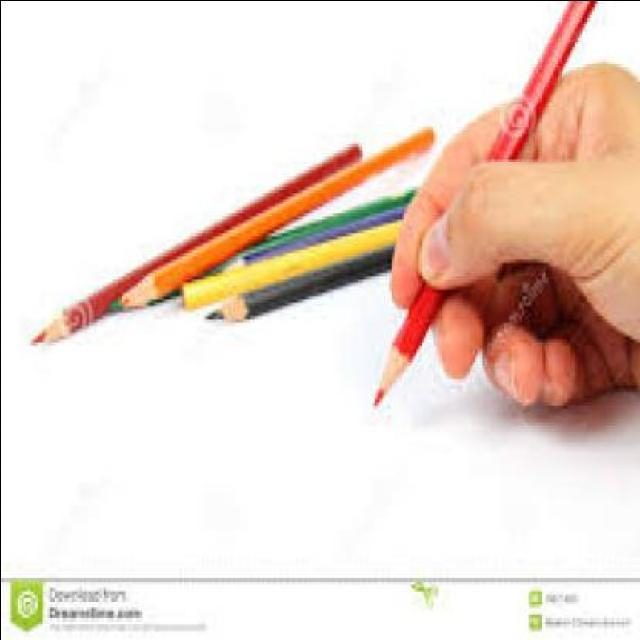pencil: (366, 328, 424, 418), (106, 262, 172, 318), (200, 282, 264, 338), (24, 298, 81, 358)
